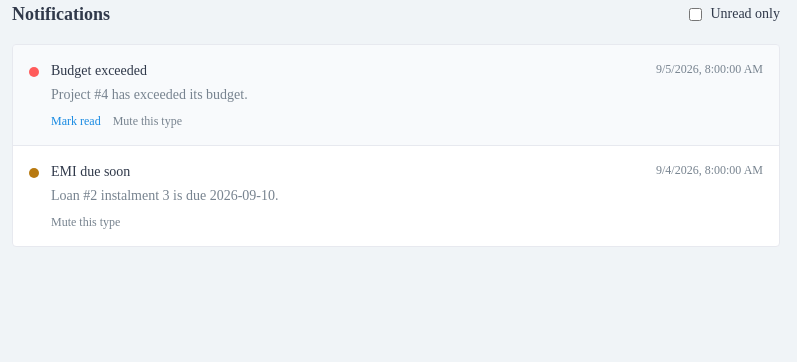
NotificationsPage › NotificationsPage_MutingAType_RemembersItLocallyAndOffersUnmute
Check: the text "Budget exceeded" is shown, box [51,61,147,81]
Step 1. Click the button "Mute this type" below "Project #4 has exceeded its budget." → (147, 121), box [113,113,182,129]
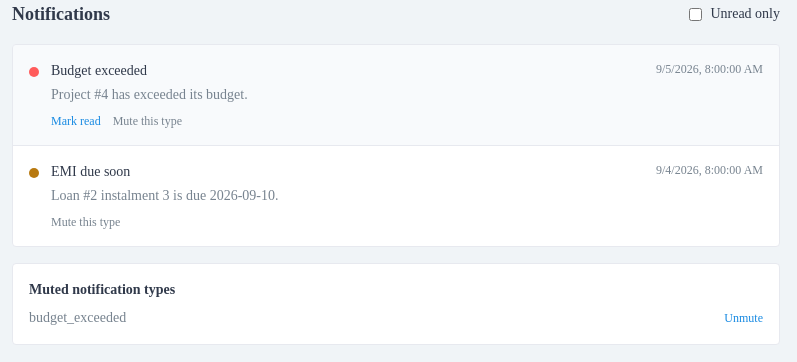
Check: the text "budget_exceeded" is shown, box [29,308,126,328]
Check: the button "Unmute" is shown, box [724,310,763,326]
